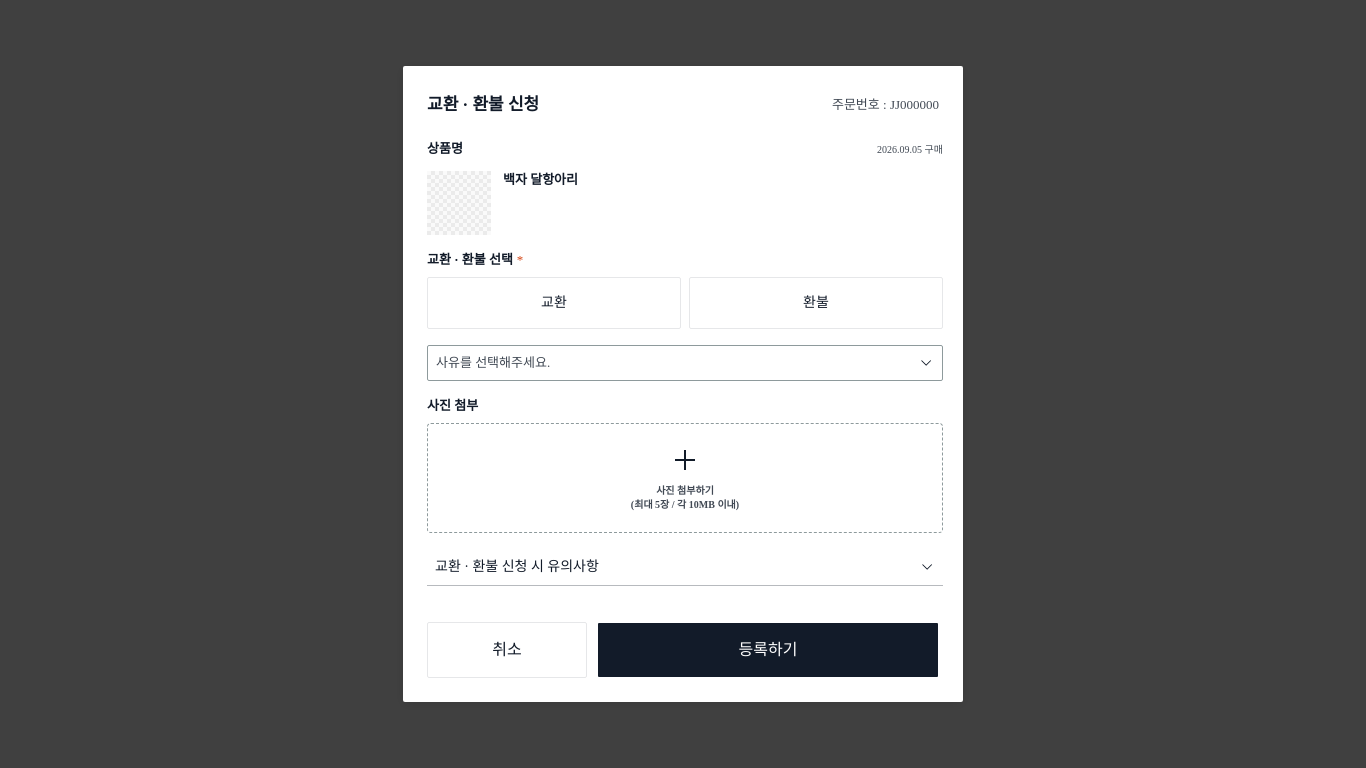
Scenario: OrderExchangeRefundRequestModal › 환불도 교환과 같은 사유 옵션을 보여준다
This screenshot has width=1366, height=768.
Click the button "환불" at (816, 303), box [689,277,943,329]
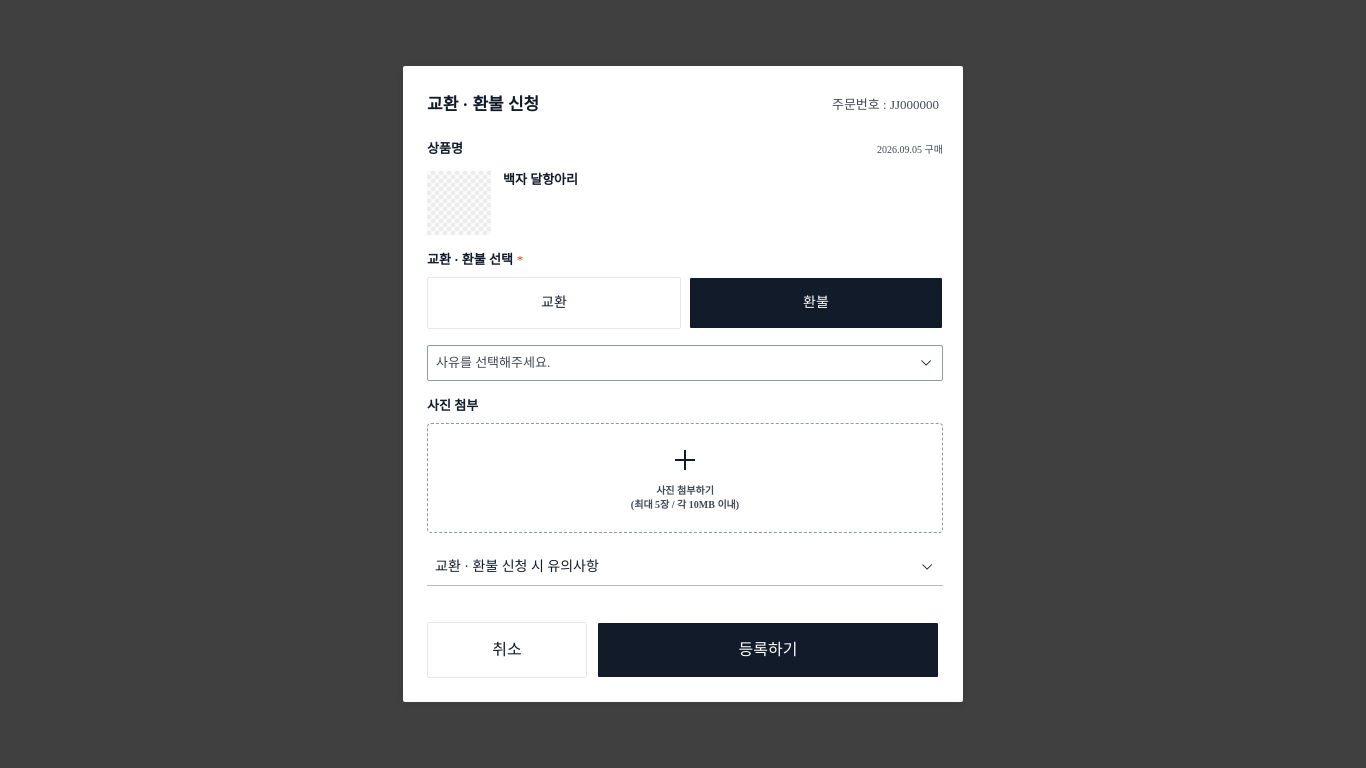
Click the dropdown named "신청 사유" at (493, 362), box [427,345,943,381]
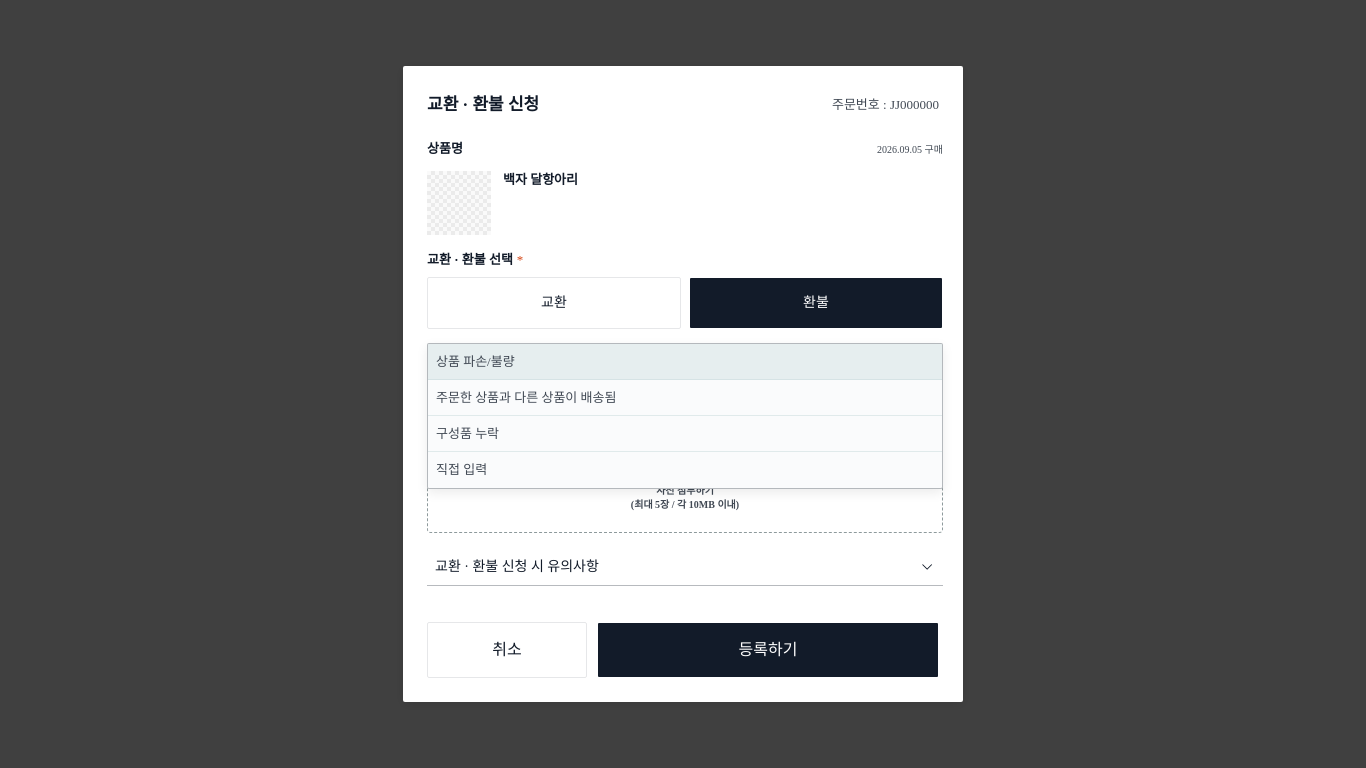
Check: the option "구성품 누락" is shown, box [428,416,942,452]
